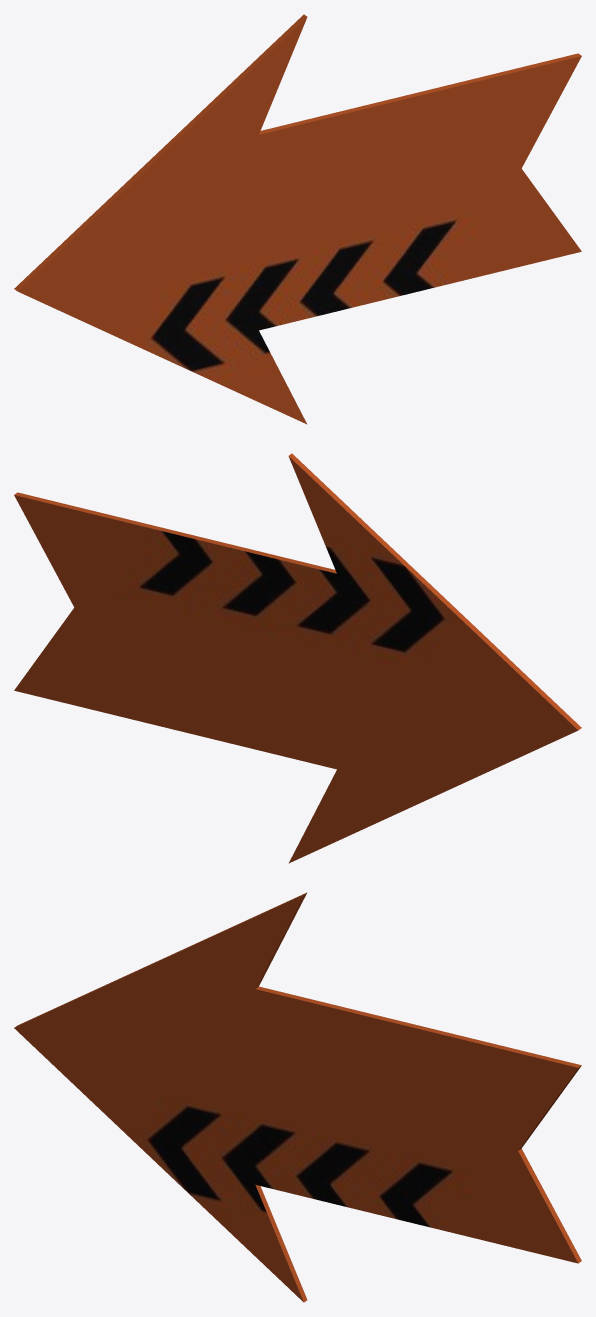
Rendered from defaultarrowsign.glb.
3 views of the same model, one above another, from view 1: azimuth 30°, elevation 25°; view 2: azimuth 150°, elevation 25°; view 3: azimuth 330°, elevation 25° (orthographic).
Visible parts, largest first — view 1: DefaultArrowSign; view 2: DefaultArrowSign; view 3: DefaultArrowSign.
Part boxes in pixels (x1,y1,x2,y2): DefaultArrowSign: [14, 14, 581, 424]; DefaultArrowSign: [14, 453, 581, 863]; DefaultArrowSign: [14, 892, 581, 1302].
Bounding box in the file's own units: 0.9089 × 0.6275 × 0.01.
Materials: 1 (1 with a texture image).
